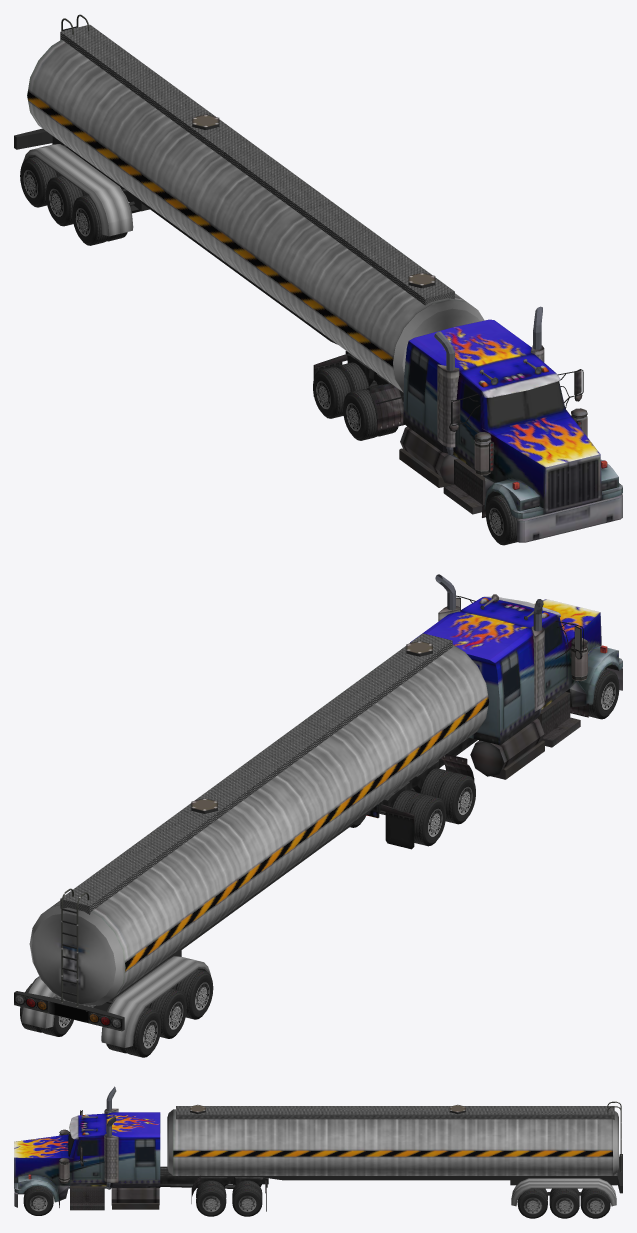
Rendered from Frieghtliner Oil Tanker.fbx.
3 renders of one model, top to bottom at view 1: azimuth 30°, elevation 25°; view 2: azimuth 150°, elevation 25°; view 3: azimuth 270°, elevation 25°, orthographic. The views are drawn at different scales.
Parts seen in each view (by area): view 1: Truck 4 Oil Tanker, Frieghtliner Oil Tanker, Wheels.021, Wheels.019, Wheels.026, Wheels.025, Wheels.027, Wheel.015; view 2: Truck 4 Oil Tanker, Frieghtliner Oil Tanker, Wheels.019, Wheels.021, Wheels.025, Wheels.027, Wheels.026, Wheel.015; view 3: Truck 4 Oil Tanker, Frieghtliner Oil Tanker, Wheels.020, Wheels.018, Wheels.023, Wheels.022, Wheels.024, Wheel.014.
Part boxes in pixels (<box>): Truck 4 Oil Tanker: <box>14,14,484,392</box>; Frieghtliner Oil Tanker: <box>313,306,622,542</box>; Wheels.021: <box>313,362,369,418</box>; Wheels.019: <box>343,384,398,440</box>; Wheels.026: <box>45,175,87,226</box>; Wheels.025: <box>72,195,127,245</box>; Wheels.027: <box>20,157,60,207</box>; Wheel.015: <box>485,495,520,545</box>; Truck 4 Oil Tanker: <box>14,633,488,1047</box>; Frieghtliner Oil Tanker: <box>366,574,622,849</box>; Wheels.019: <box>420,768,475,824</box>; Wheels.021: <box>392,790,446,846</box>; Wheels.025: <box>171,969,213,1019</box>; Wheels.027: <box>106,1007,161,1057</box>; Wheels.026: <box>146,988,186,1038</box>; Wheel.015: <box>588,669,619,719</box>; Truck 4 Oil Tanker: <box>167,1101,622,1206</box>; Frieghtliner Oil Tanker: <box>14,1086,268,1211</box>; Wheels.020: <box>232,1180,262,1216</box>; Wheels.018: <box>196,1180,226,1216</box>; Wheels.023: <box>549,1188,579,1218</box>; Wheels.022: <box>517,1188,547,1218</box>; Wheels.024: <box>580,1188,610,1218</box>; Wheel.014: <box>23,1185,53,1215</box>.
Bounding box in the file's own units: 2642 × 401 × 477.
Materials: 4 (4 with a texture image).
